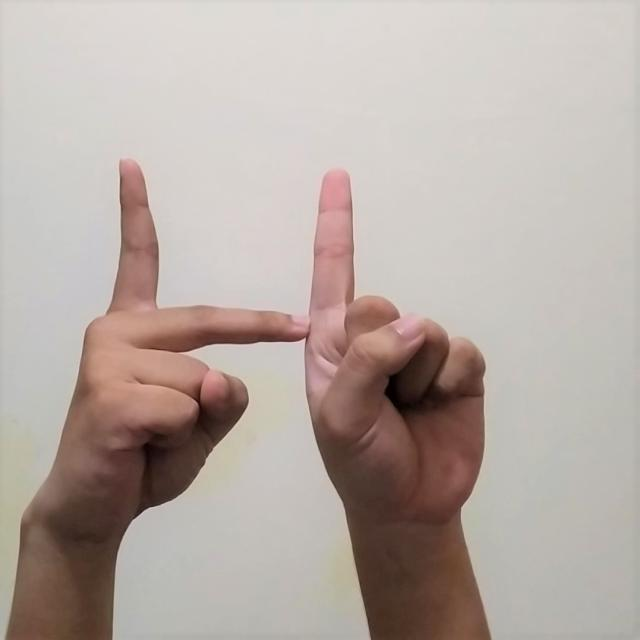H: (36, 148, 493, 542)
